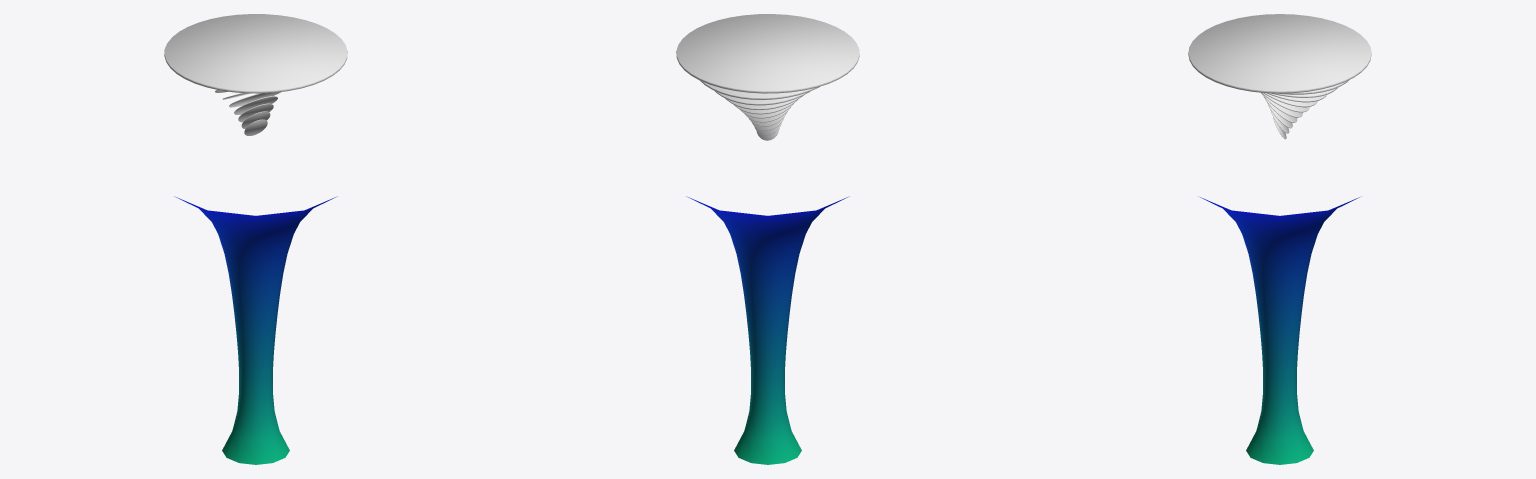
The model's file is station05.glb.
3 renders of one model, left to right at view 1: azimuth 30°, elevation 25°; view 2: azimuth 150°, elevation 25°; view 3: azimuth 270°, elevation 25°, orthographic.
Parts seen in each view (by area): view 1: station05_out, station05_tube_out; view 2: station05_out, station05_tube_out; view 3: station05_out, station05_tube_out.
Boxes of the visible parts, x1,y1,x2,y2 form: station05_out: [164, 14, 347, 135]; station05_tube_out: [175, 196, 336, 464]; station05_out: [676, 14, 859, 140]; station05_tube_out: [687, 196, 848, 464]; station05_out: [1188, 14, 1371, 139]; station05_tube_out: [1200, 197, 1359, 464].
Bounding box in the file's own units: 1060 × 963 × 1060.
Materials: 1 (1 with a texture image).
